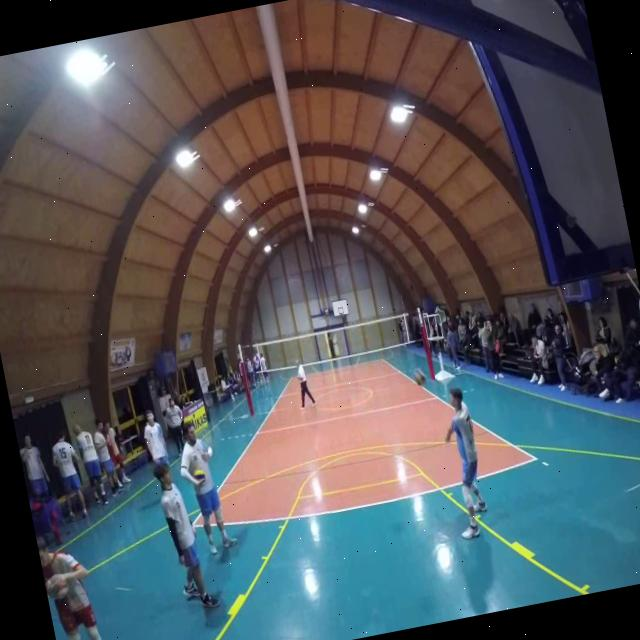Volleyball: (44, 573, 70, 600), (412, 367, 430, 391), (192, 467, 208, 487)
